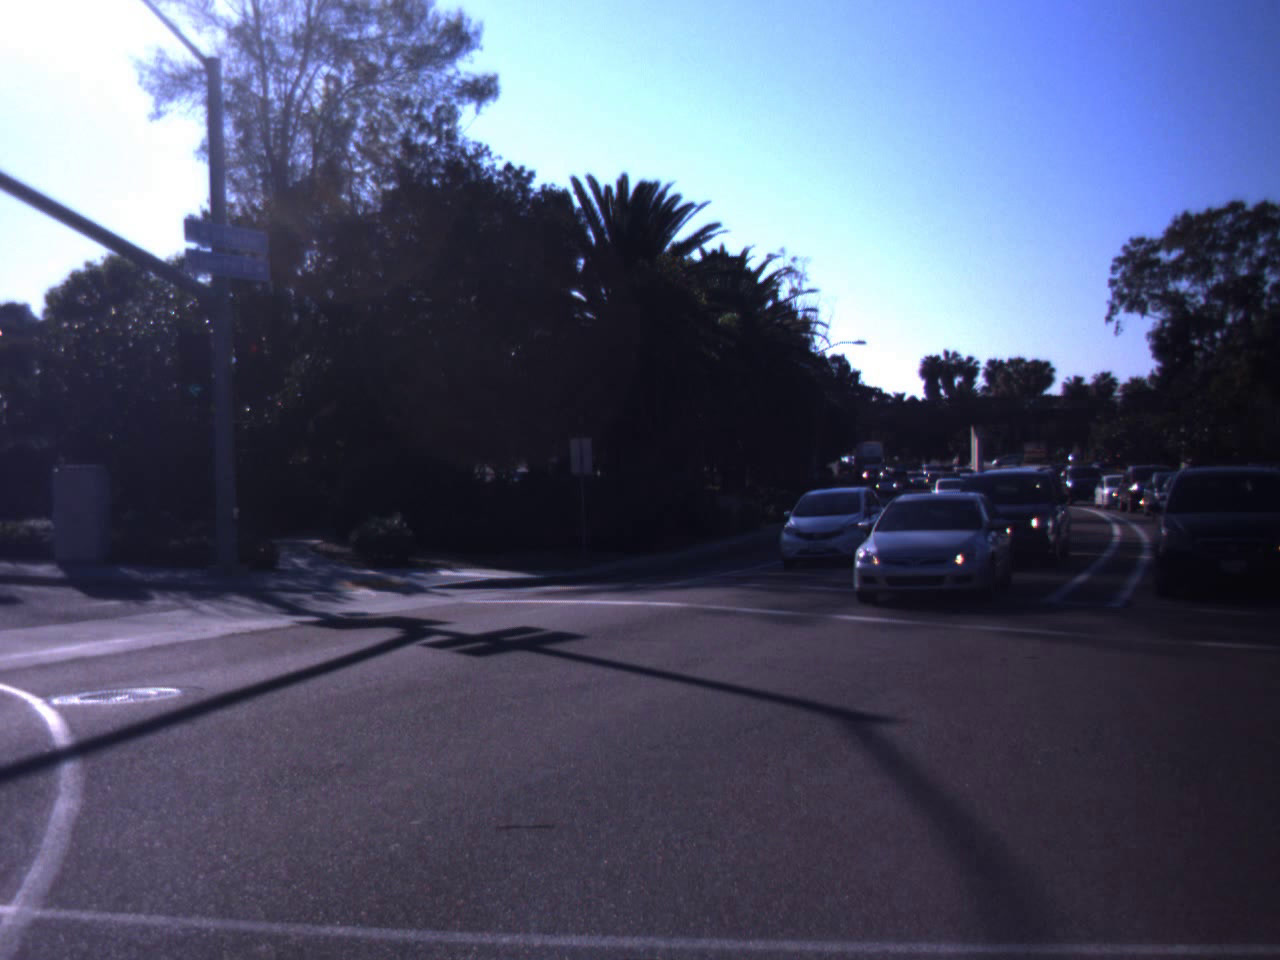go: (172, 324, 220, 404)
